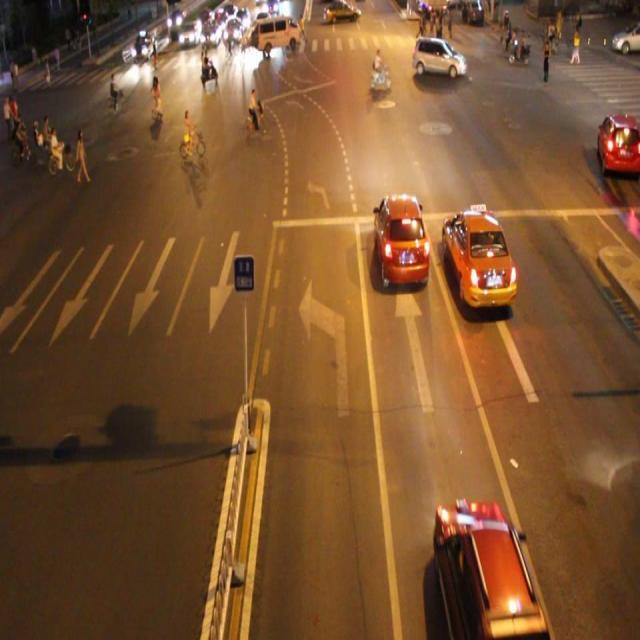car: (428, 490, 546, 640), (436, 194, 518, 330), (360, 178, 429, 302), (600, 110, 640, 215), (414, 21, 469, 88), (248, 5, 303, 54), (321, 0, 371, 36)
